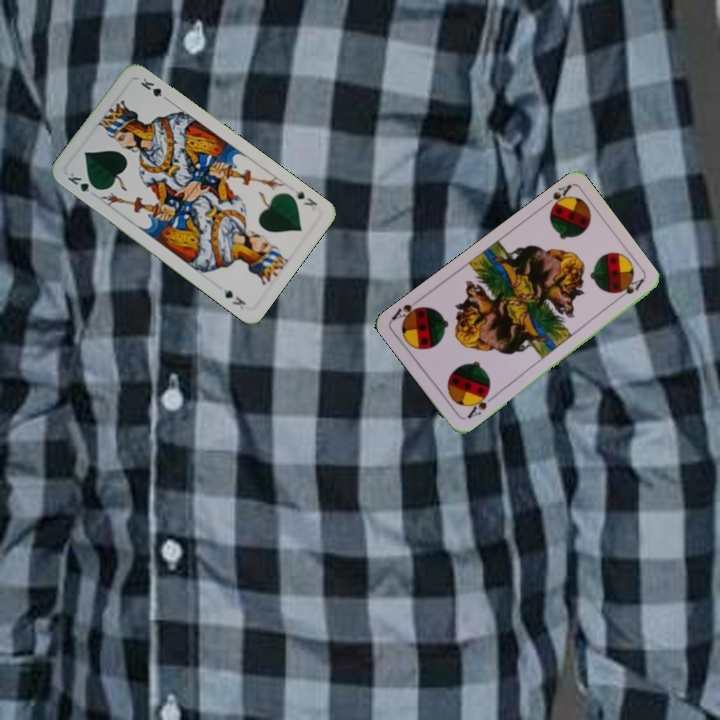GK: (63, 168, 101, 195), (291, 186, 320, 209)
SA: (539, 180, 575, 215), (463, 388, 497, 422)
